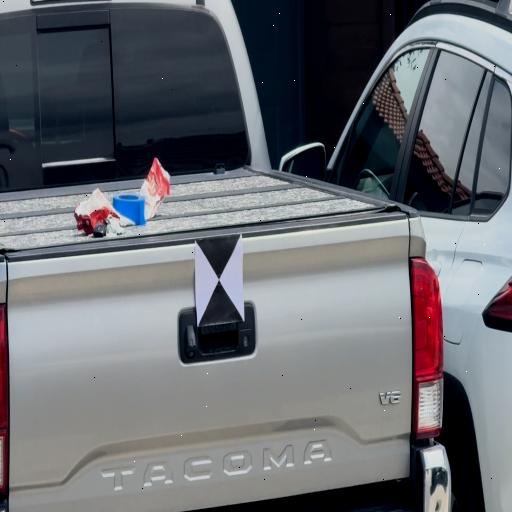target: (195, 235, 245, 326)
